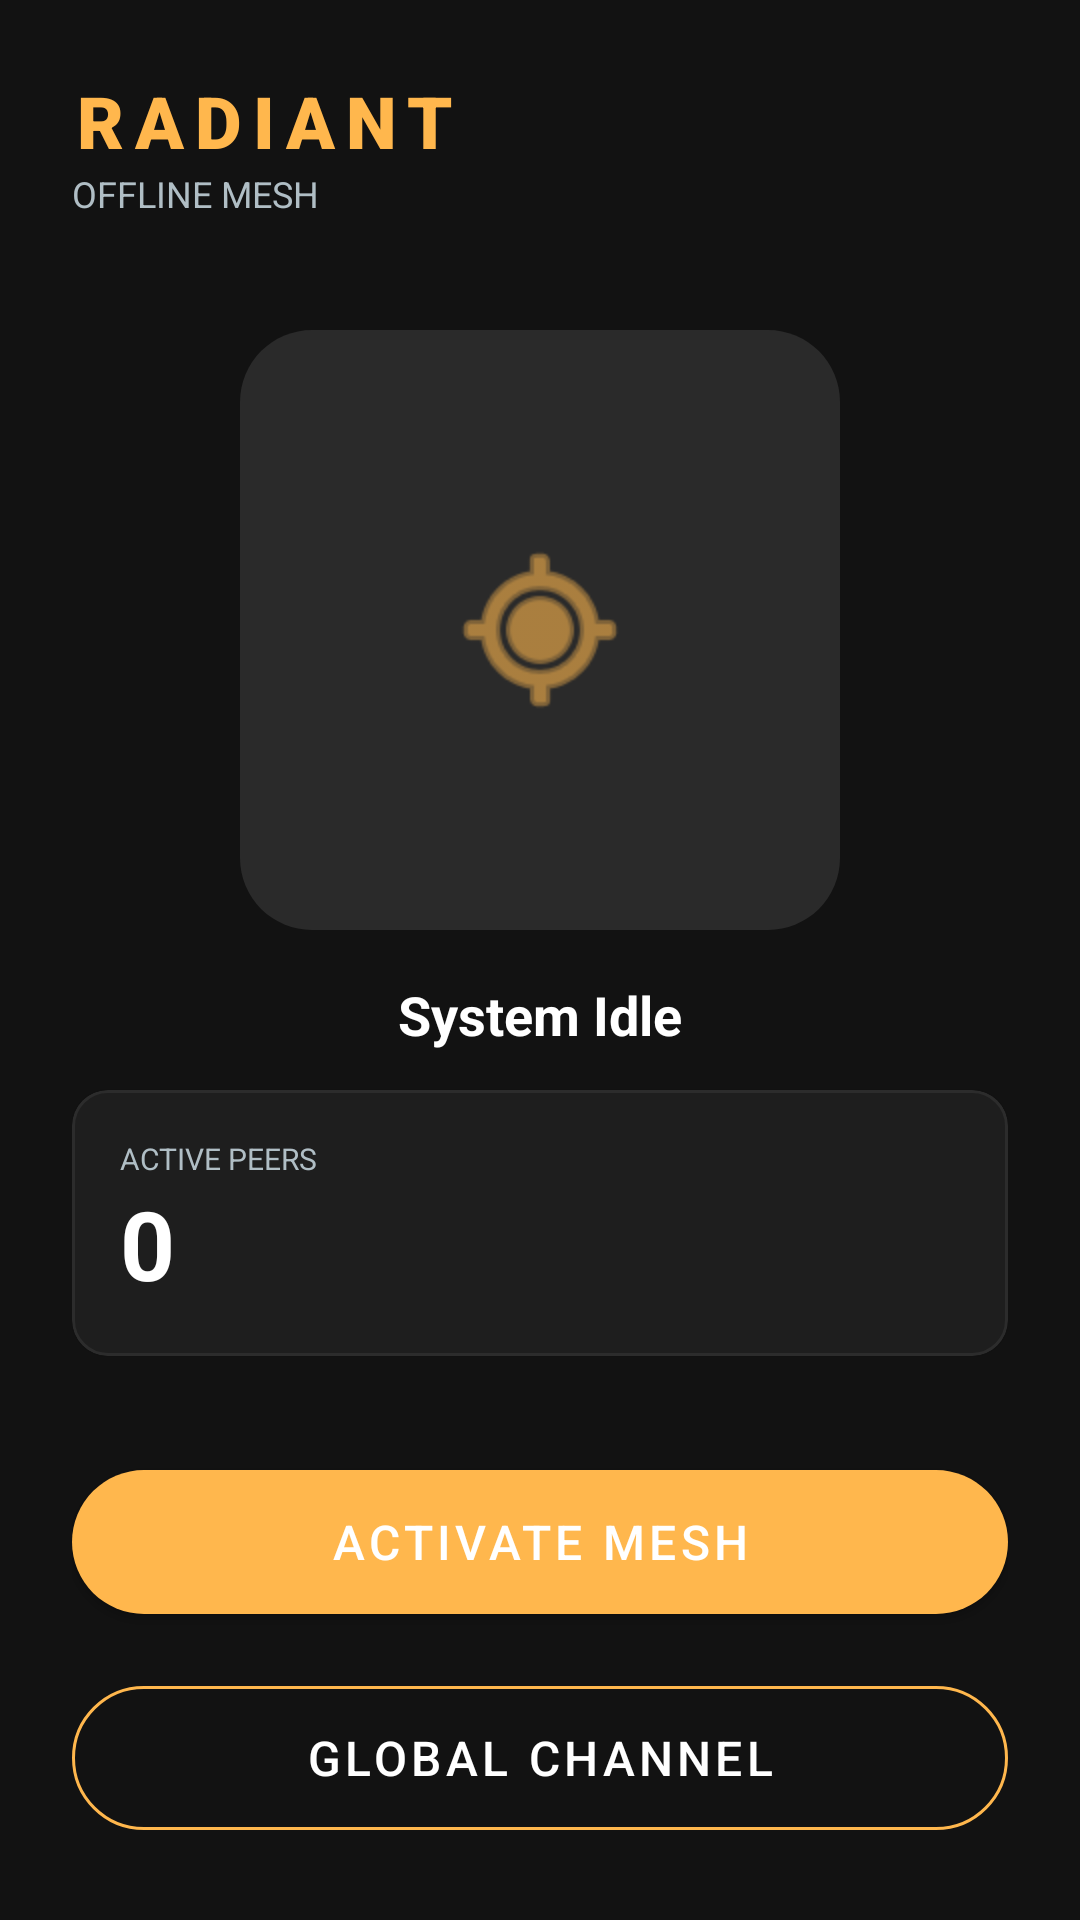

Icons on this 1080 × 1920 Android screen, each with the point to tap as [x,y]:
mylocation: [540,630]
